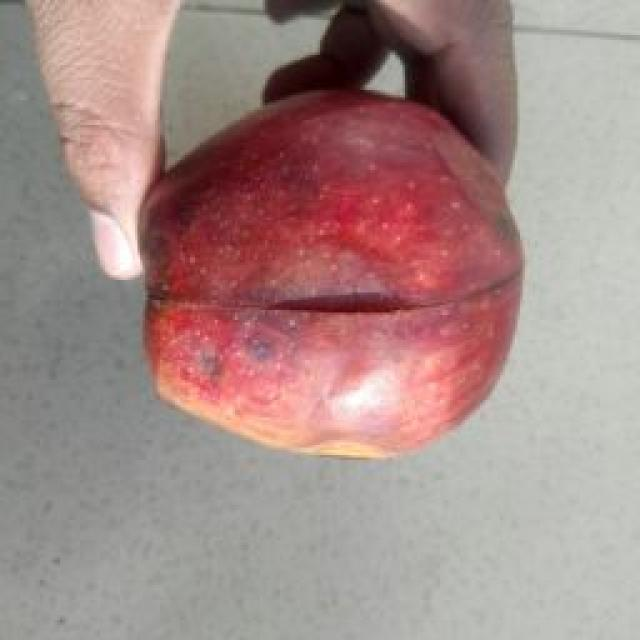Bad_Apple: (146, 91, 519, 457)
